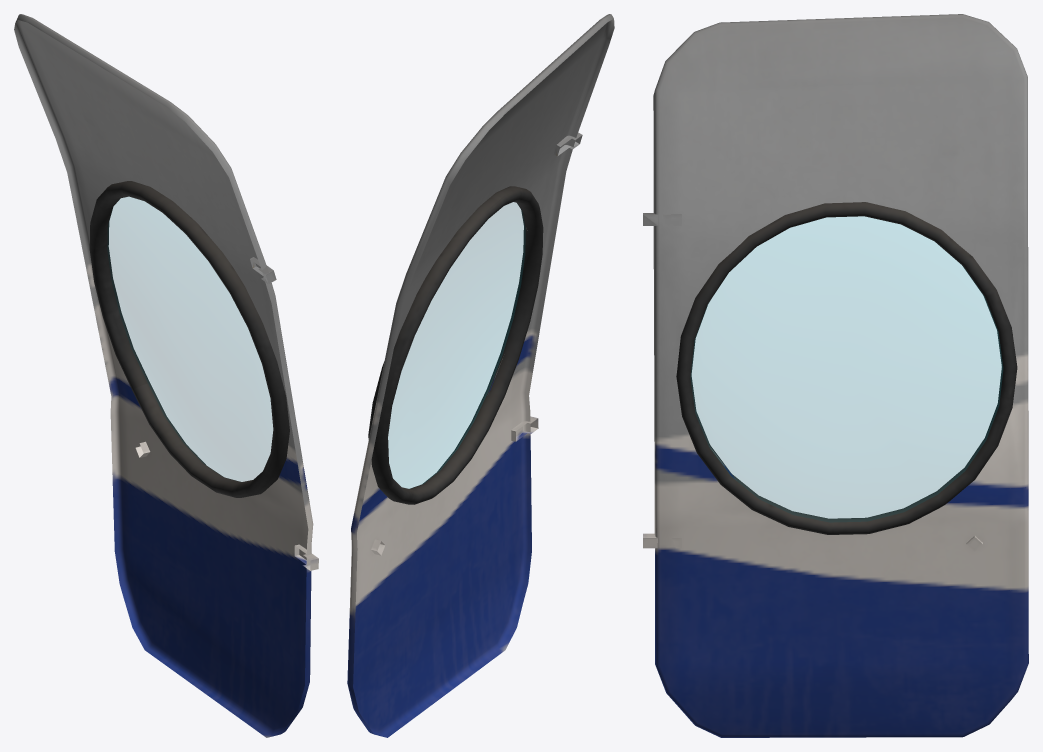
File: AC313_feijimen_05.FBX
3 views of the same model, side by side, from view 1: azimuth 30°, elevation 25°; view 2: azimuth 150°, elevation 25°; view 3: azimuth 270°, elevation 25° (orthographic).
Parts seen in each view (by area): view 1: AC313_feijimen_05; view 2: AC313_feijimen_05; view 3: AC313_feijimen_05.
Part boxes in pixels (bbox=[...]): AC313_feijimen_05: bbox=[14, 14, 318, 737]; AC313_feijimen_05: bbox=[347, 14, 614, 737]; AC313_feijimen_05: bbox=[643, 14, 1028, 737].
Bounding box in the file's own units: 0.2863 × 1.33 × 0.6974.
2 materials, 1 textured.
